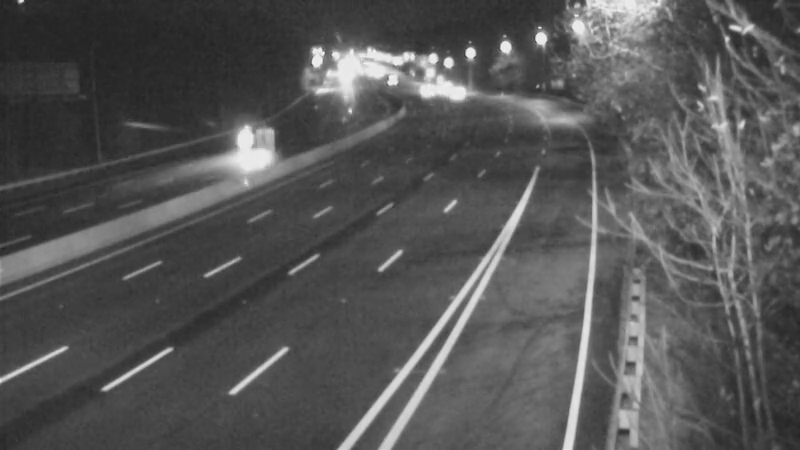vehicle: (366, 54, 416, 104), (431, 68, 481, 118), (399, 65, 449, 115), (223, 111, 273, 161)
